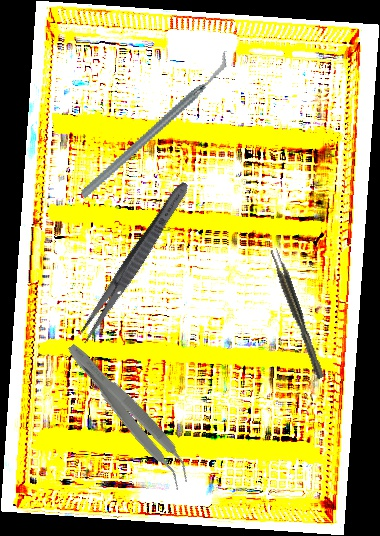Chopper: (52, 50, 258, 200)
Dressing Forceps: (74, 177, 194, 348)
Tissue Forceps: (56, 337, 200, 492), (268, 247, 325, 381)
